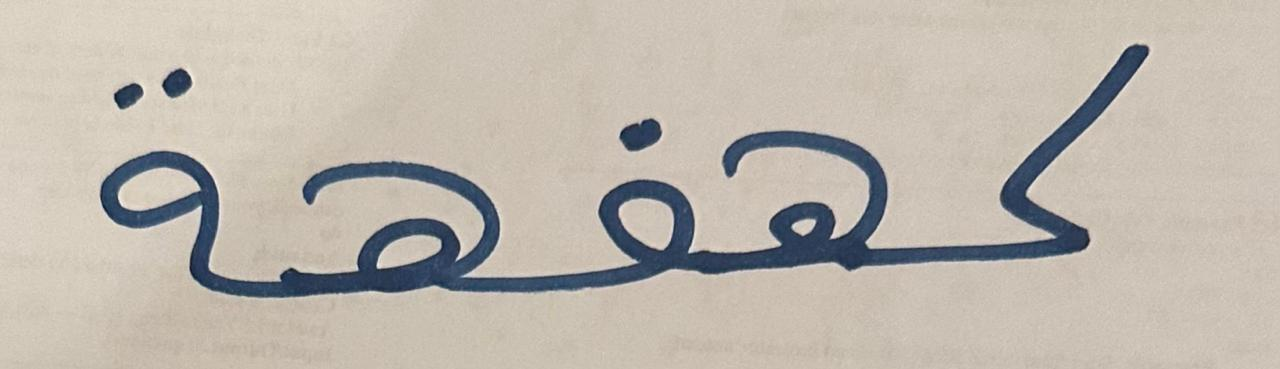feh: (527, 65, 706, 345)
jeem: (270, 65, 524, 343), (710, 43, 924, 330)
khah: (929, 7, 1196, 325)
thal: (78, 48, 267, 332)
